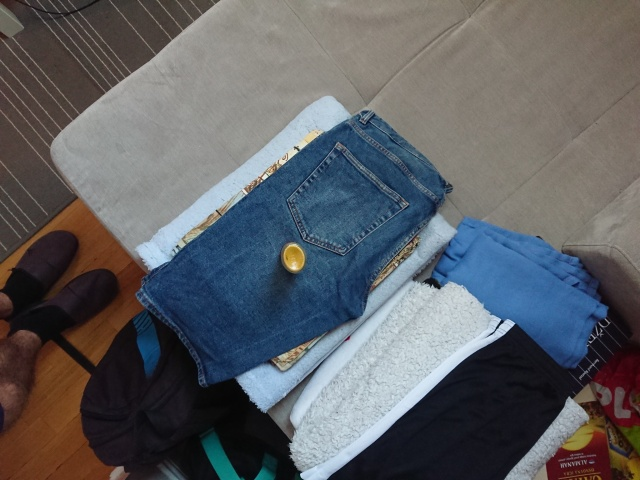Kotanyi Curry Spices Mix 70g: (279, 240, 308, 276)
